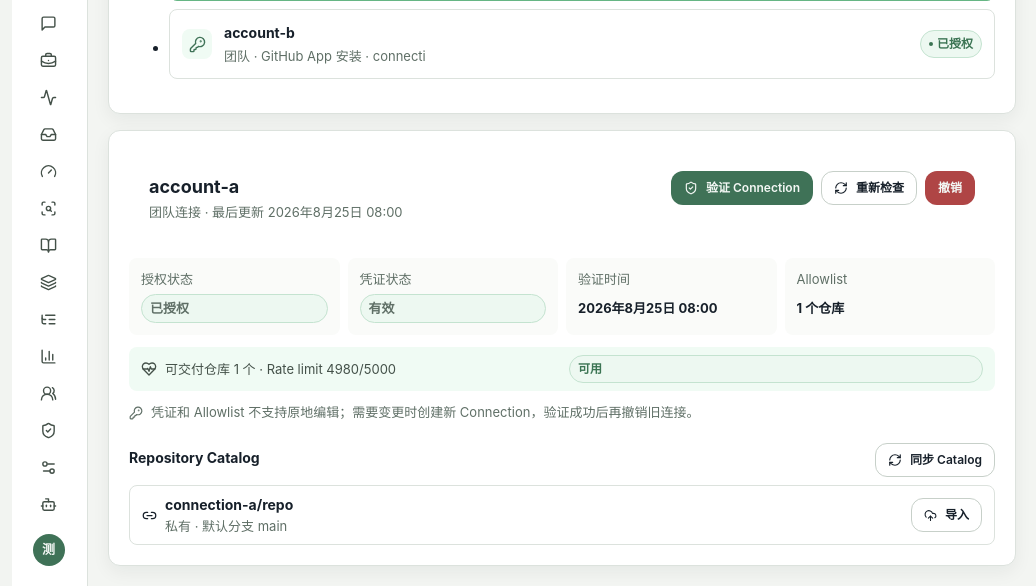
GitHub settings request isolation › keeps the same job after a failed status read and recovers by reading, not creating
The width and height of the screenshot is (1036, 586).
(page scrolled)
Click the button "导入" at (946, 515), box [911,498,982,532]
(page scrolled)
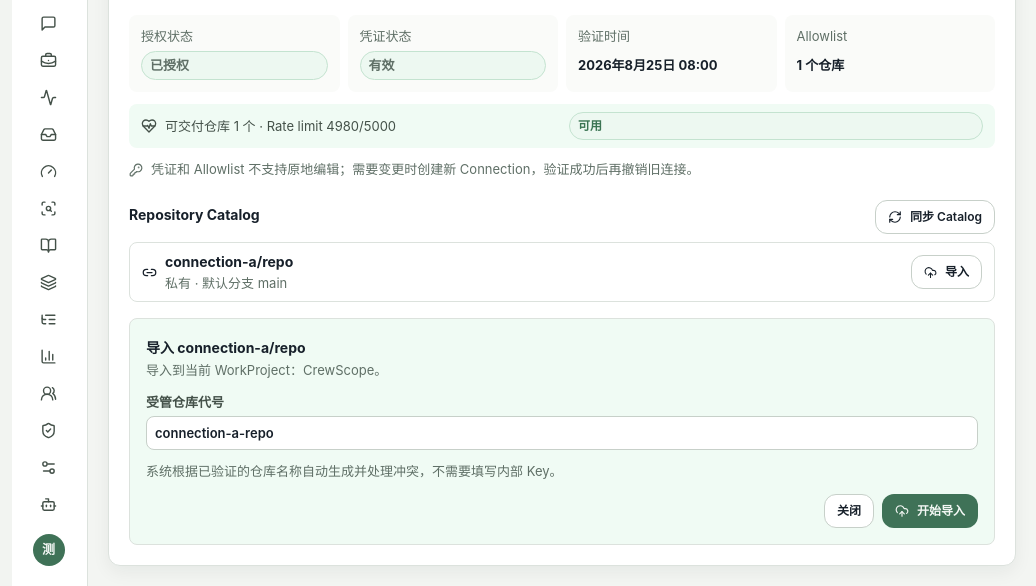
Click the button "开始导入" at (930, 511), box [882,494,978,528]
Wait 1200 ms
(page scrolled)
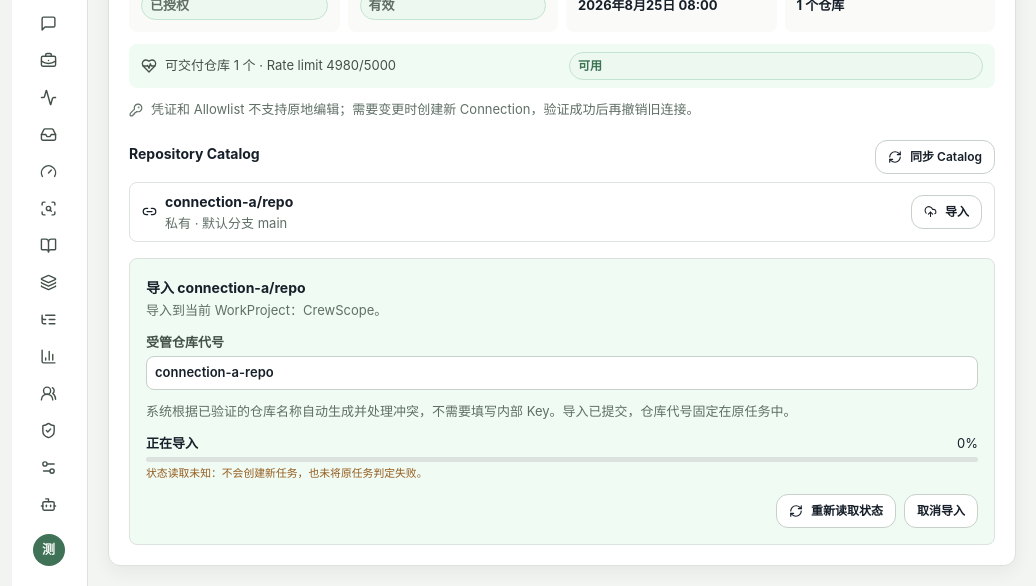
Expected: the field labelled "受管仓库代号" is disabled, [146,356,978,390]
Click the button "重新读取状态" at (836, 511), box [776,494,896,528]
(page scrolled)
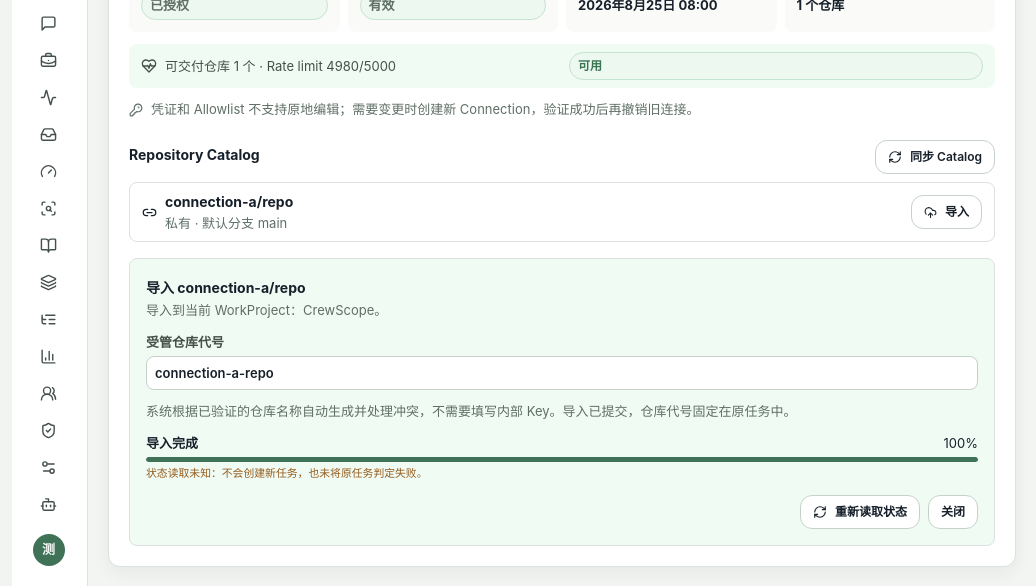
Expected: the message with class "import-progress" shows "导入完成", [146,435,198,451]
